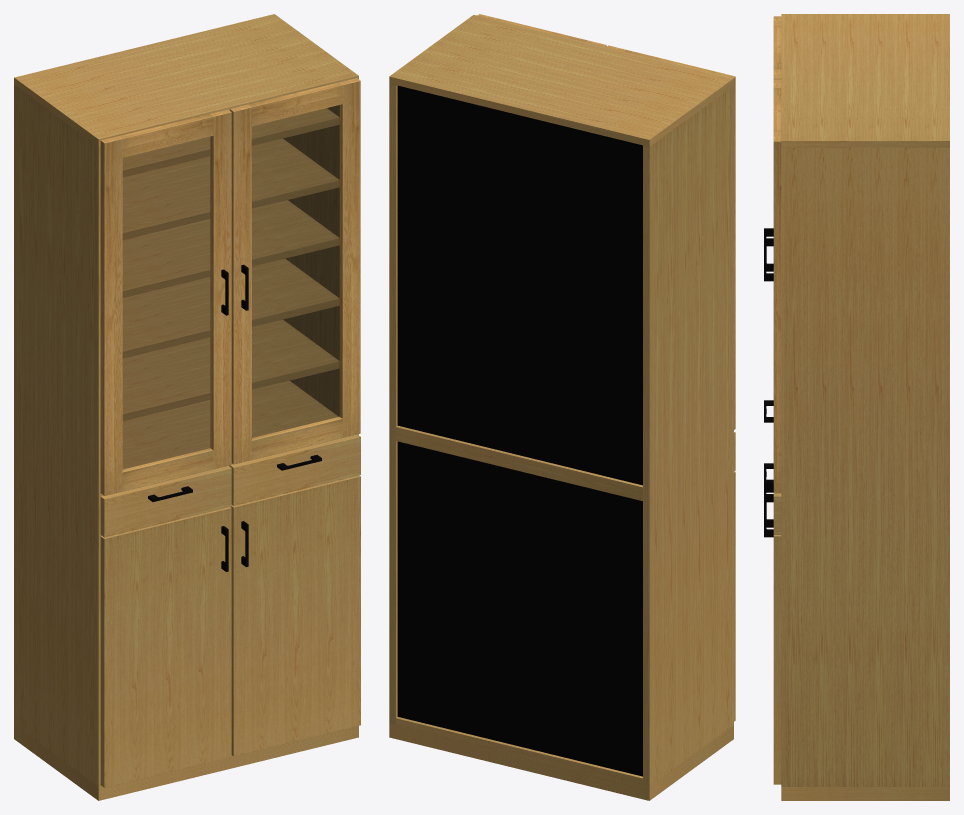
The model's file is obj_merissa_80_oak_ccb516.glb.
3 renders of one model, left to right at view 1: azimuth 30°, elevation 25°; view 2: azimuth 150°, elevation 25°; view 3: azimuth 270°, elevation 25°, orthographic.
Visible parts, largest first — view 1: obj_merissa_80_oak_ccb516; view 2: obj_merissa_80_oak_ccb516; view 3: obj_merissa_80_oak_ccb516.
Boxes of the visible parts, x1,y1,x2,y2 form: obj_merissa_80_oak_ccb516: (14, 14, 360, 800); obj_merissa_80_oak_ccb516: (389, 14, 735, 800); obj_merissa_80_oak_ccb516: (764, 14, 949, 800).
Size of the model in its own units: 0.8242 by 2 by 0.5105.
Materials: 7 (4 with a texture image).
